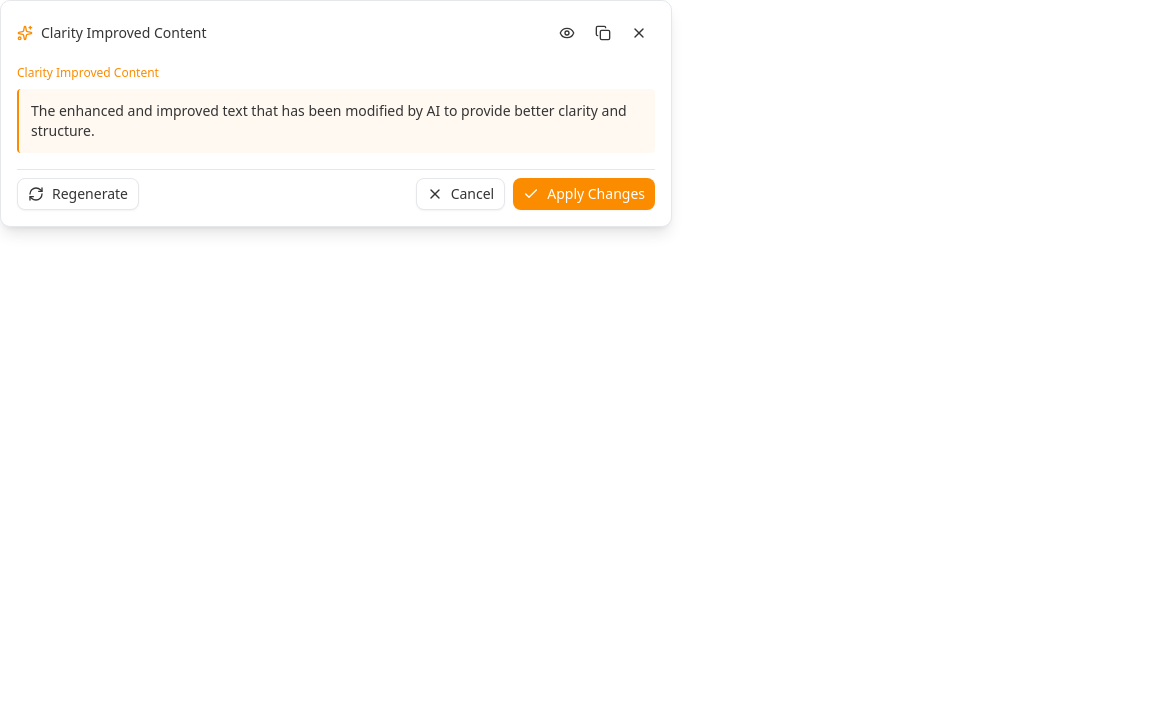
Test: Modify Mode Integration Tests › AIContentPreview Component › should show comparison view when toggled
Click the button named "Show comparison". click: (567, 33)
box: [551, 17, 583, 49]
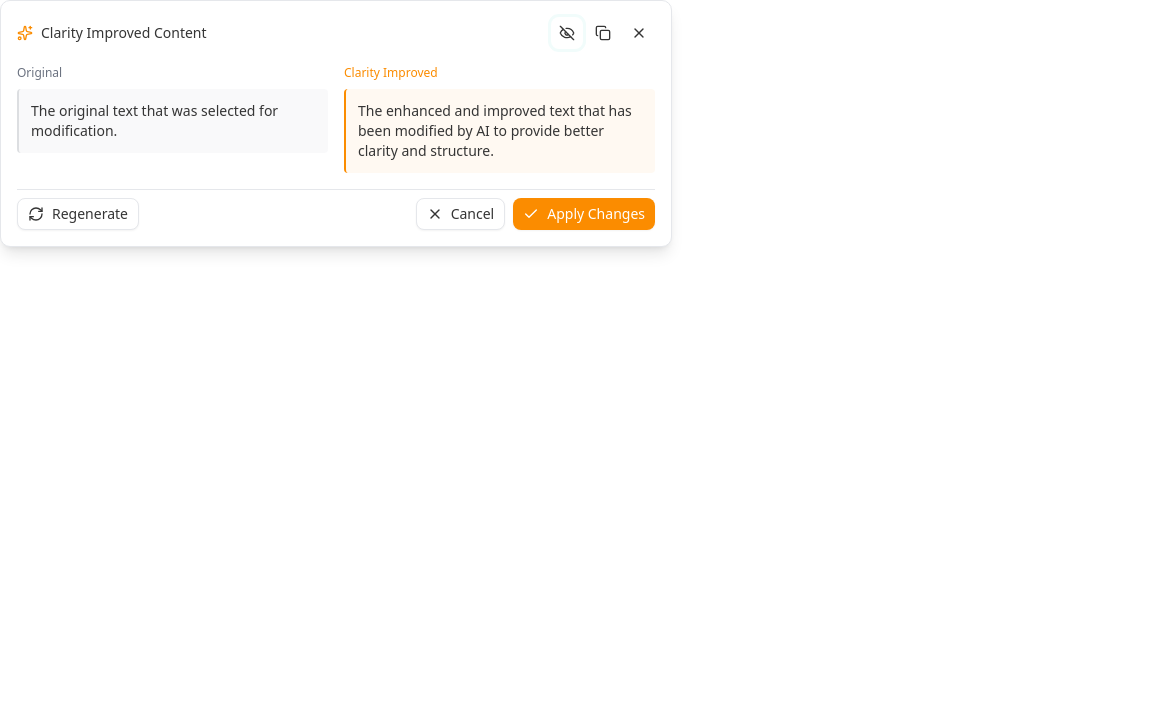
Expected: the text "Original" is shown, [17, 64, 62, 81]
Expected: the text "Clarity Improved" is shown, [344, 64, 438, 81]
Expected: the text "The original text that was selected for modification." is shown, [31, 101, 316, 141]
